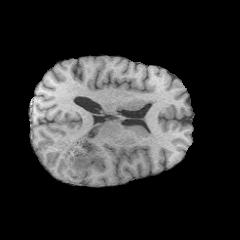glioma: (58, 134, 99, 174)
